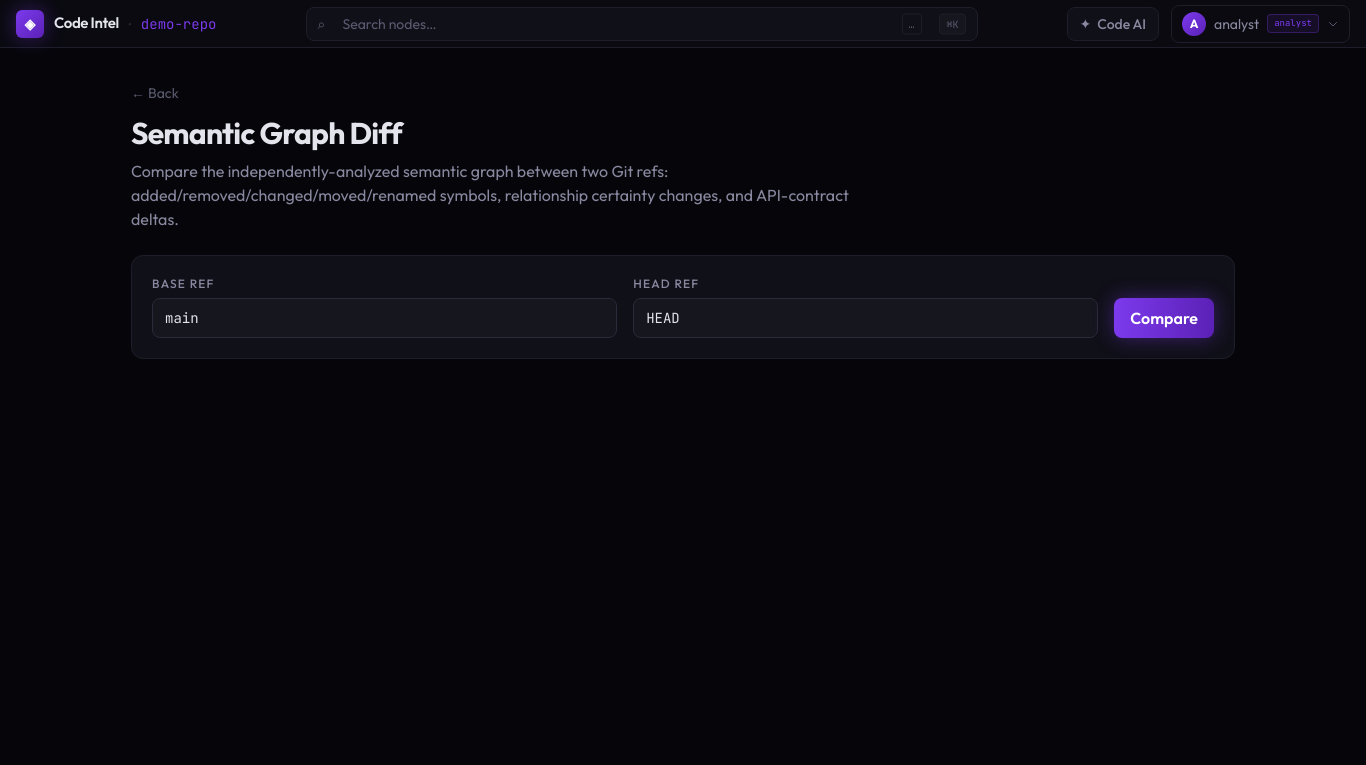
Test case: GraphDiffPage › paginates a large diff and exposes hasMore via a load-more control
Click the button "Compare": (1164, 318) [1114,298,1214,338]
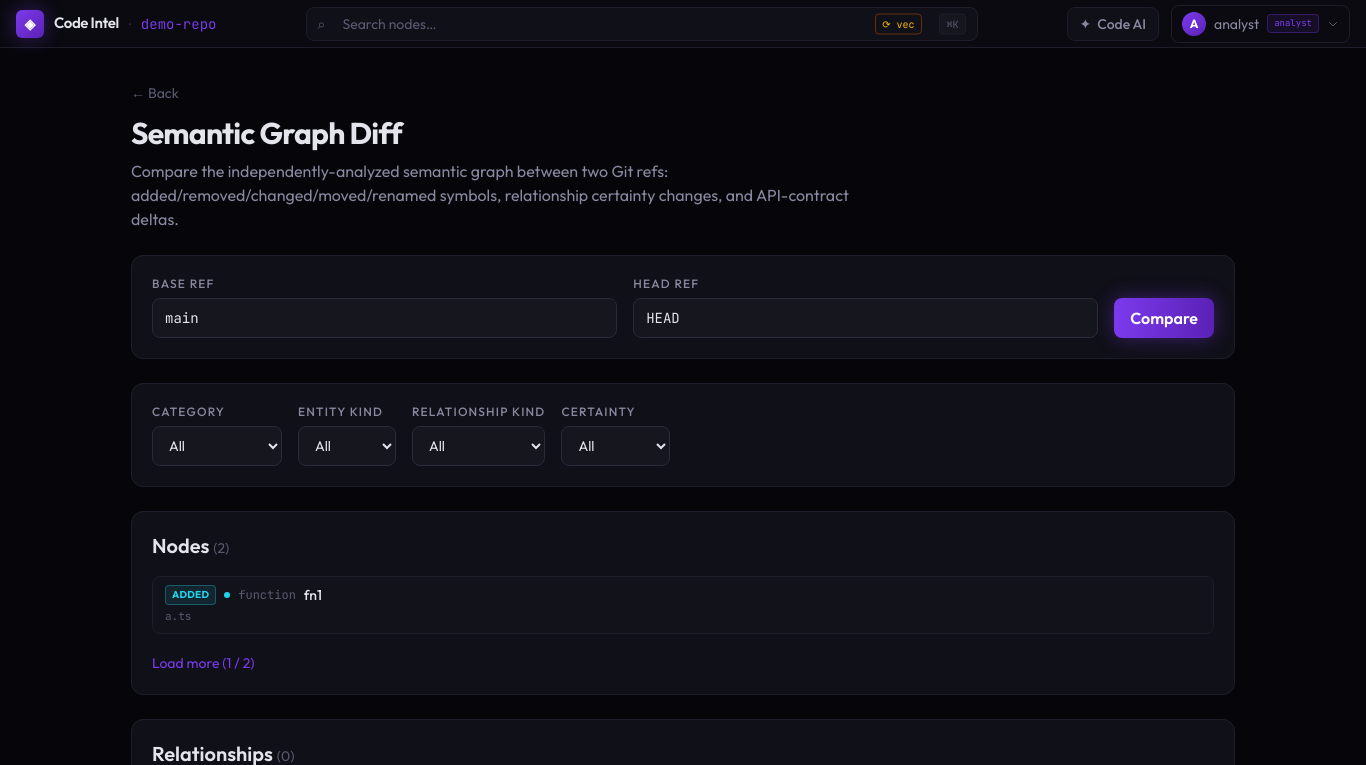
Expected: the text "fn1" is shown, [304,585,322,605]
Click the button "Load more (1 / 2)": (203, 663) [152,653,254,673]
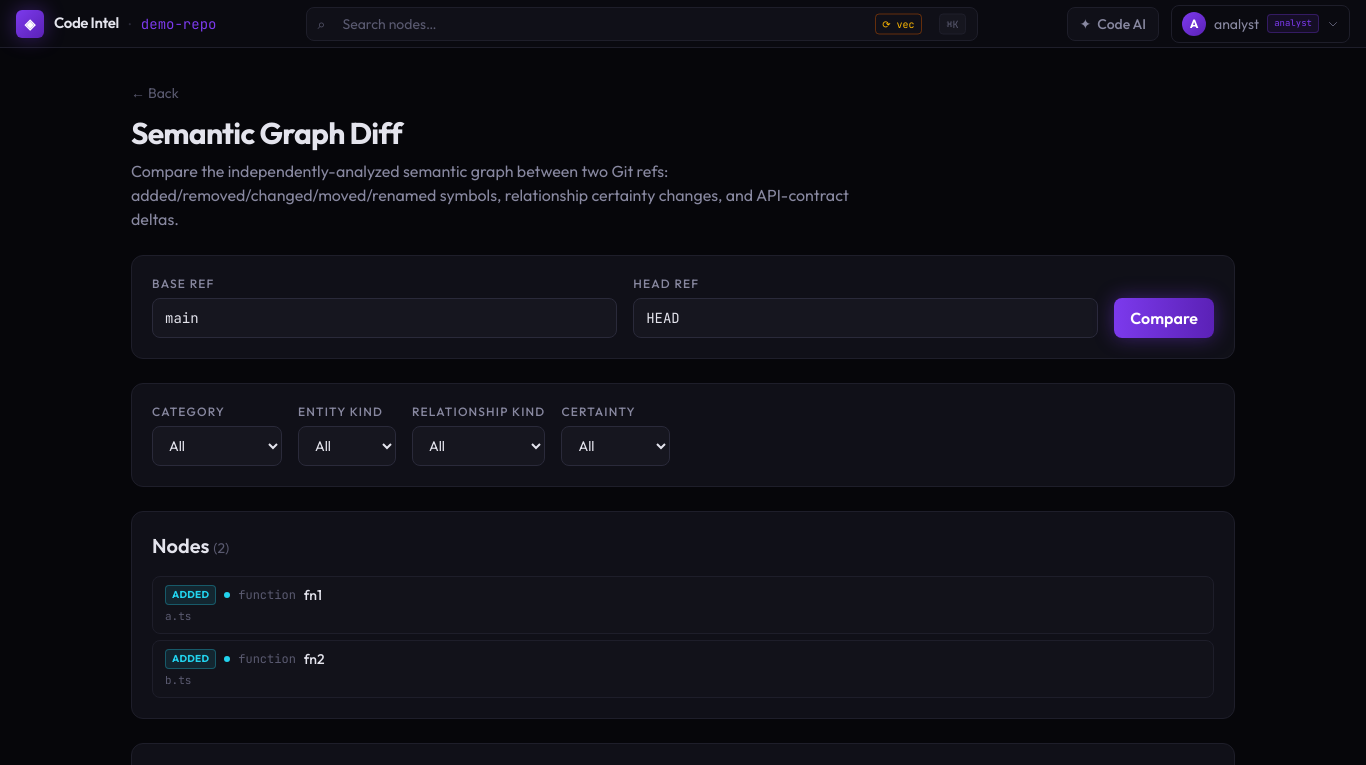
Expected: the text "fn1" is shown, [304,585,322,605]
Expected: the text "fn2" is shown, [304,649,324,669]
Expected: the button "Load more" is gone
